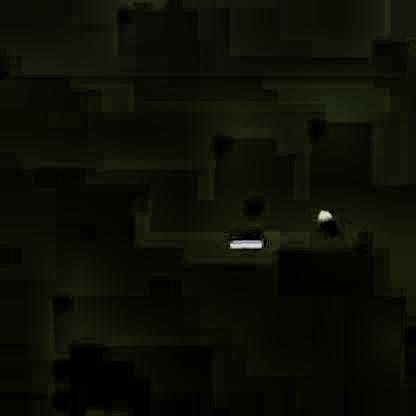golfball: (313, 206, 330, 221)
